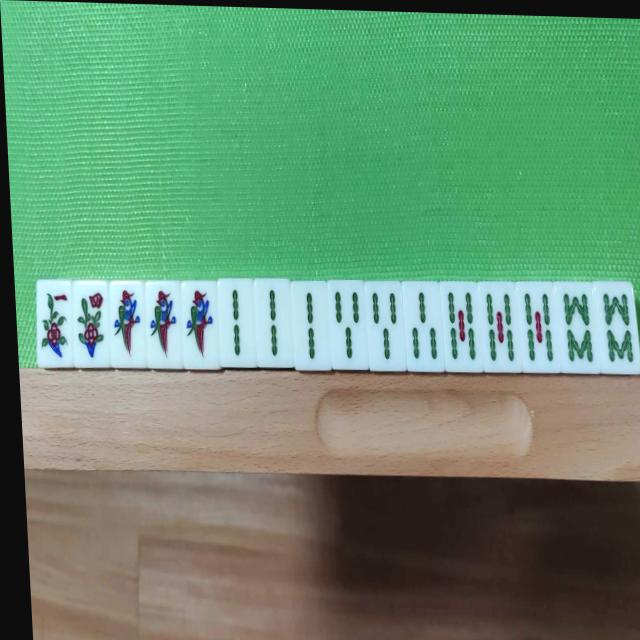ff1: (38, 286, 72, 367)
ff4: (73, 287, 108, 368)
s1: (111, 284, 145, 367), (182, 286, 217, 366), (146, 286, 181, 366)
s2: (219, 282, 254, 365), (294, 285, 328, 365), (256, 283, 287, 362)
s3: (405, 287, 441, 368), (367, 287, 404, 365), (330, 285, 366, 365)
s5: (441, 286, 481, 369), (480, 287, 519, 371), (519, 289, 559, 369)
s8: (595, 285, 638, 369), (559, 289, 595, 369)
